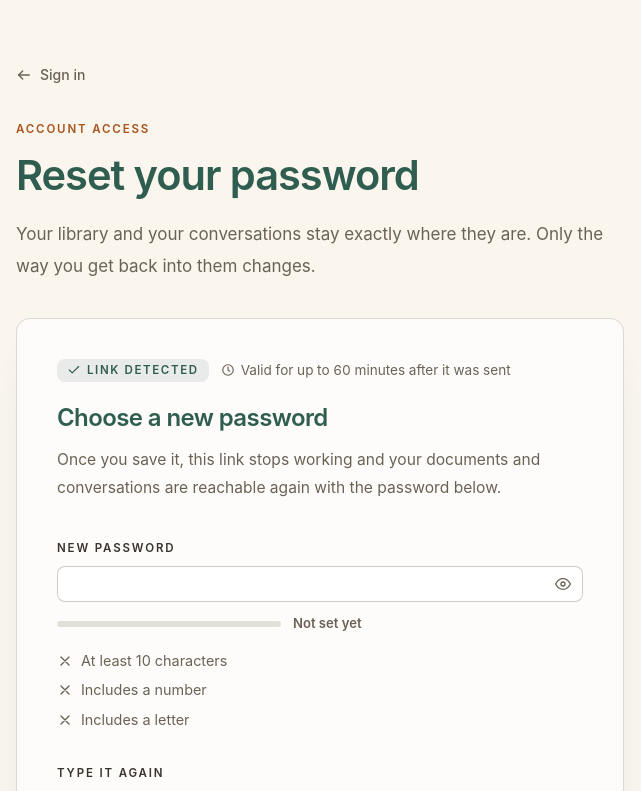
it: ResetPassword - set a new password › renders the link-no-longer-valid state for an expired or used token, with a request-a-new-link action
Step 1. Type "good-password1" into the password field labelled "New password" → (320, 584), box [57, 566, 583, 602]
(page scrolled)
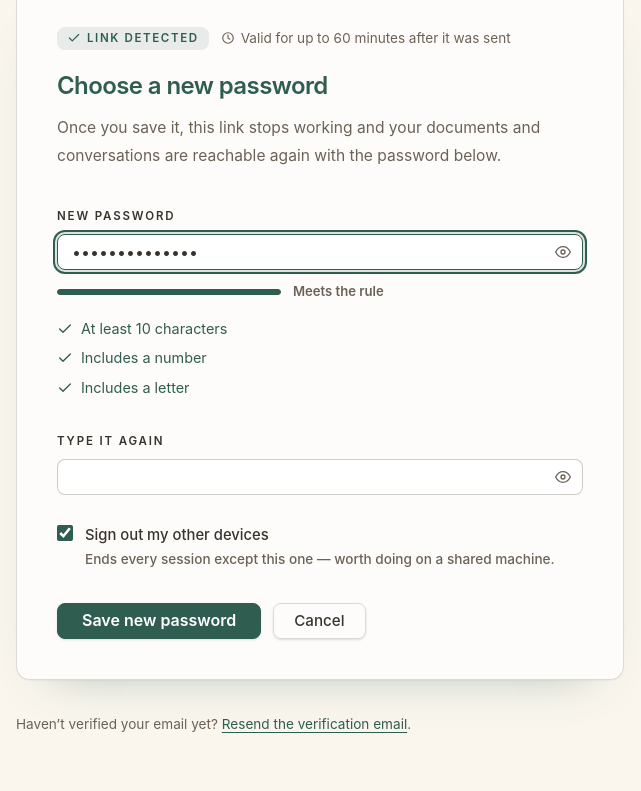
Step 2. Type "good-password1" into the password field labelled "Type it again" → (320, 477), box [57, 459, 583, 495]
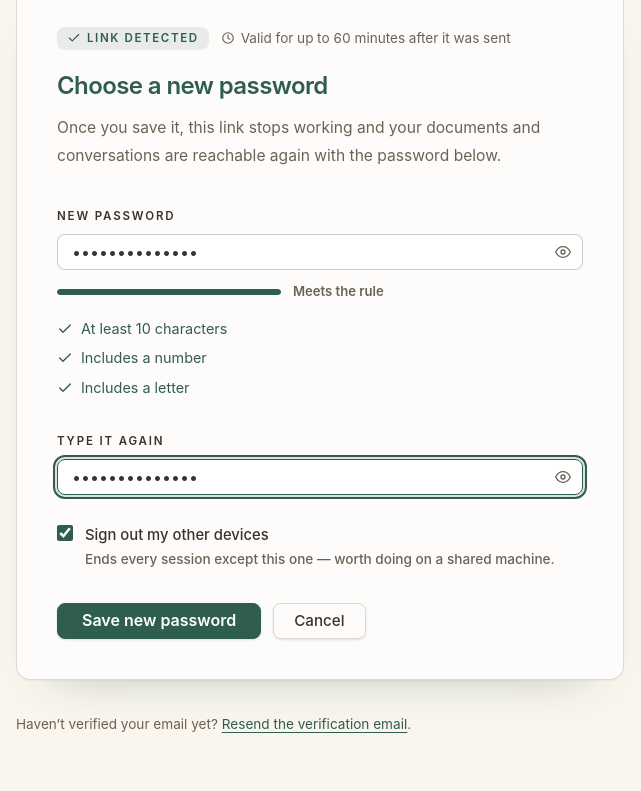
Step 3. Click the button "Save new password" → click(159, 621), box [57, 603, 261, 639]
(page scrolled)
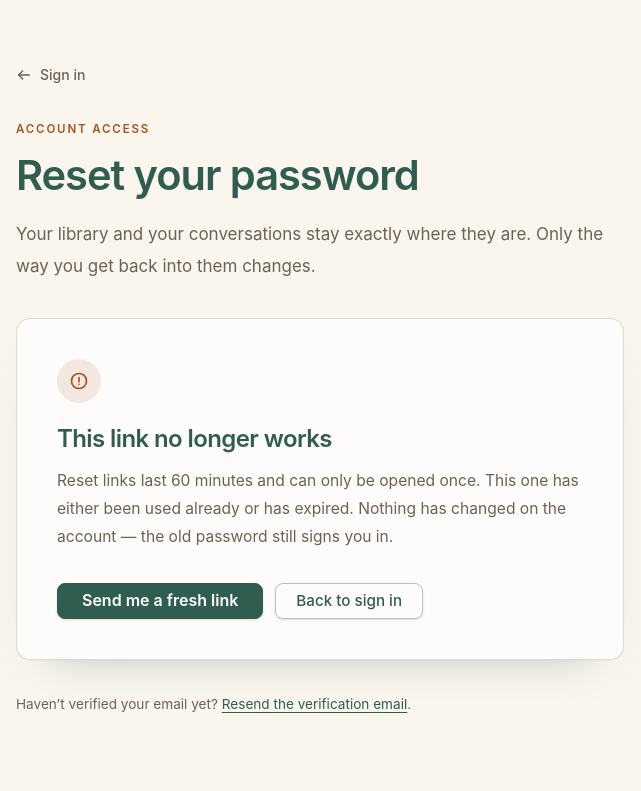
Check: the heading "This link no longer works" is shown, box [57, 424, 332, 453]
Check: the button "Send me a fresh link" is shown, box [57, 583, 263, 619]
